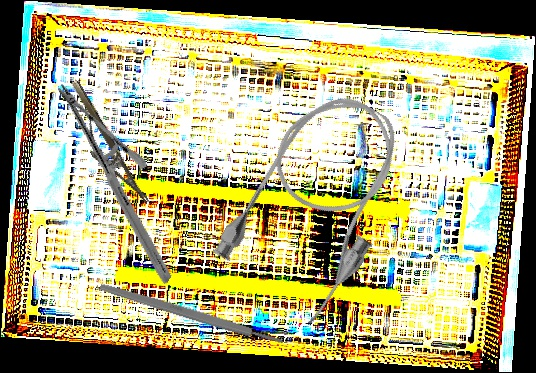Cannula: (205, 75, 432, 331)
Needle Holder: (0, 81, 229, 286), (55, 78, 150, 216)
Scalpel Handle: (98, 281, 285, 348)
